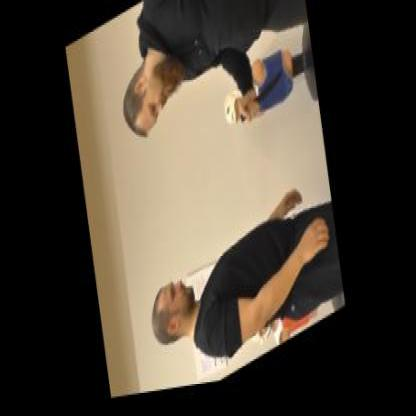knife: (235, 75, 286, 135)
